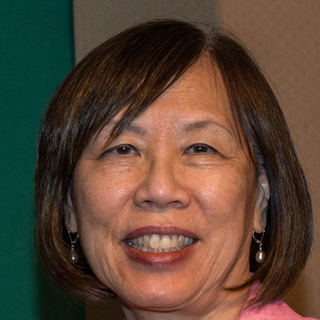eye: (171, 136, 228, 165), (95, 135, 145, 166)
